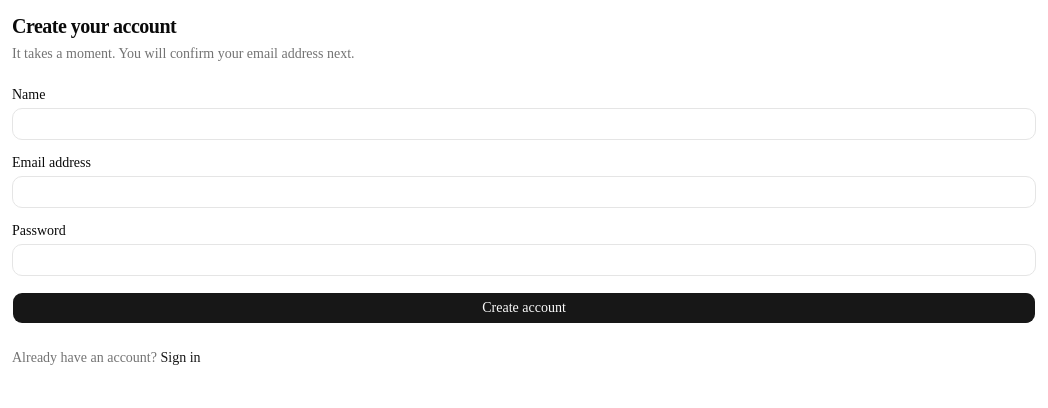
Test case: SignUpForm › names the minimum length when the password is too short
The image size is (1048, 408).
Type "Ada Lovelace" into the field labelled "Name" at [524, 124], box [12, 108, 1036, 140]
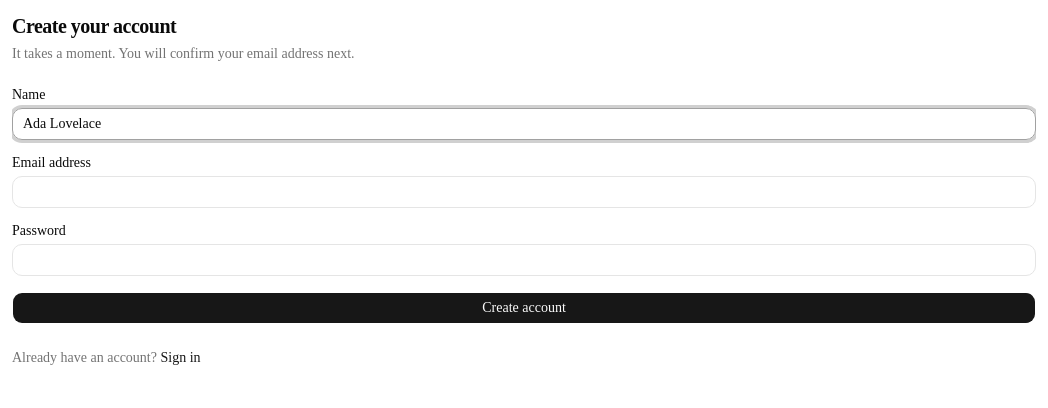
Type "ada@example.com" into the field labelled "Email address" at [524, 192], box [12, 176, 1036, 208]
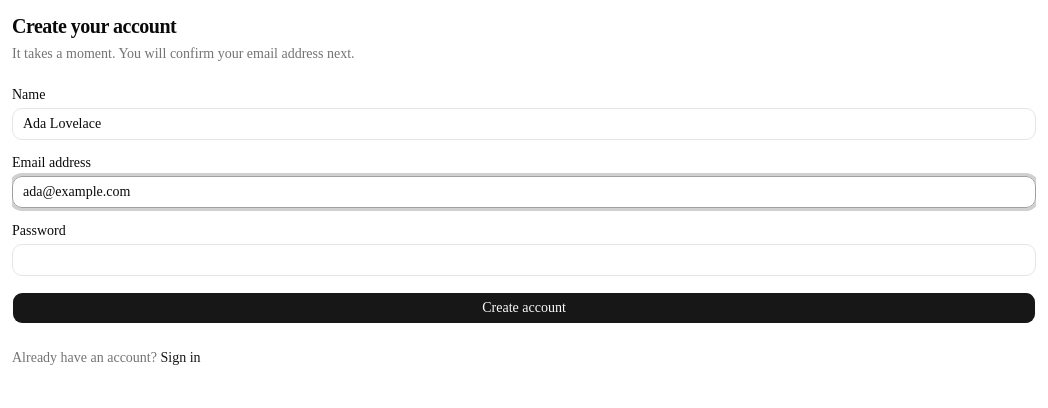
Type "short" into the password field labelled "Password" at [524, 260], box [12, 244, 1036, 276]
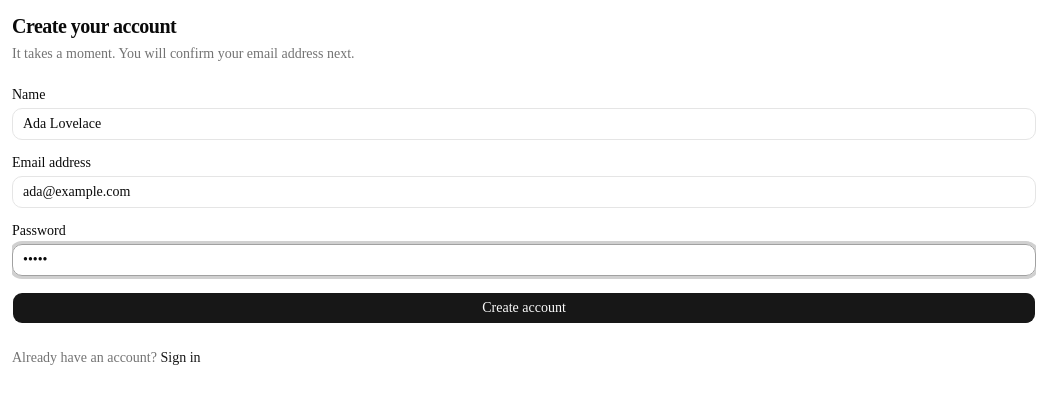
Click the button "Create account" at [524, 308], box [12, 292, 1036, 324]
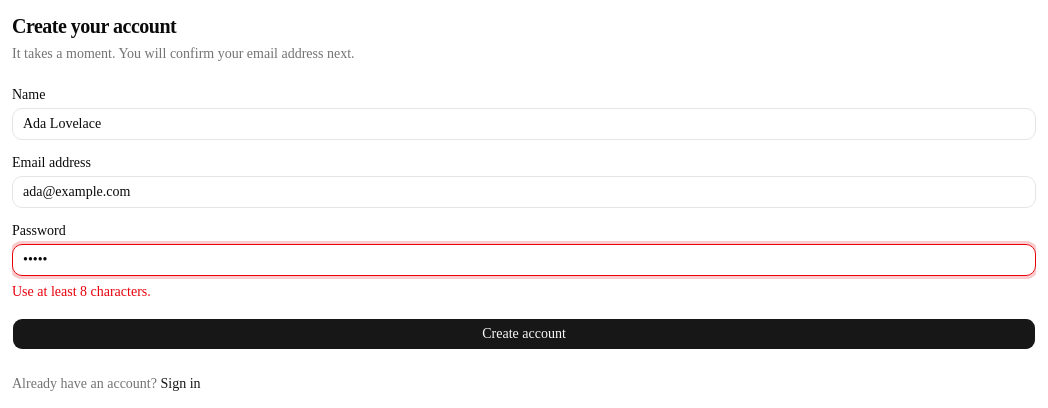
Now the text "Use at least 8 characters." is shown, box [12, 284, 151, 299]
